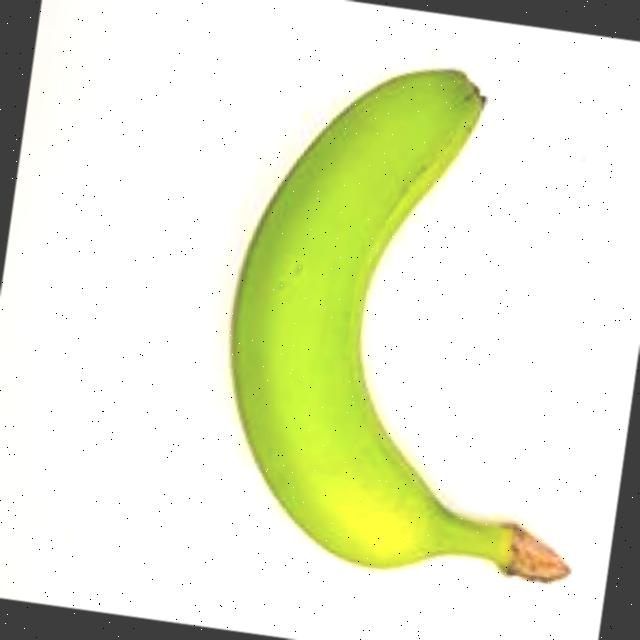Unripe: (174, 24, 640, 627)
